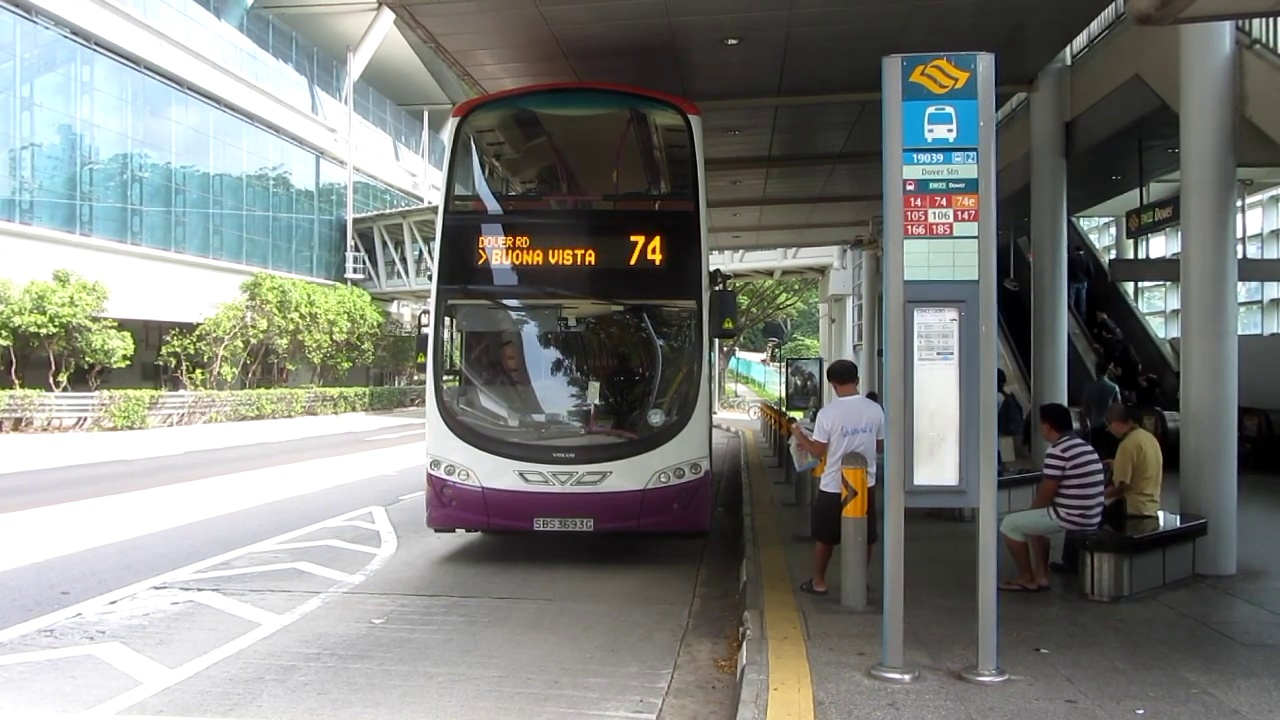bus panel: (471, 231, 668, 272)
